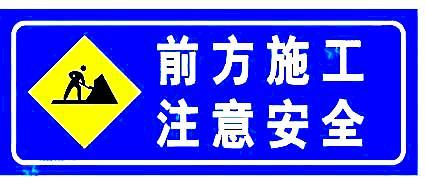sign: (10, 18, 408, 171)
